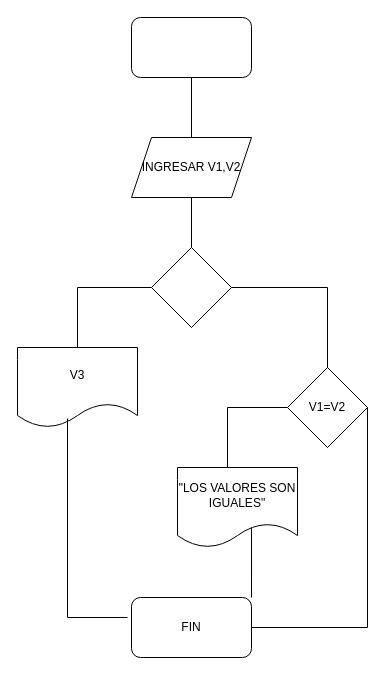
The diagram is 386 pixels wide and 675 high, and some of its shapes have lost their labels. Each missing label, with the centre of its shape:
INICIO: pixel 191 47
V1>V2: pixel 191 287
